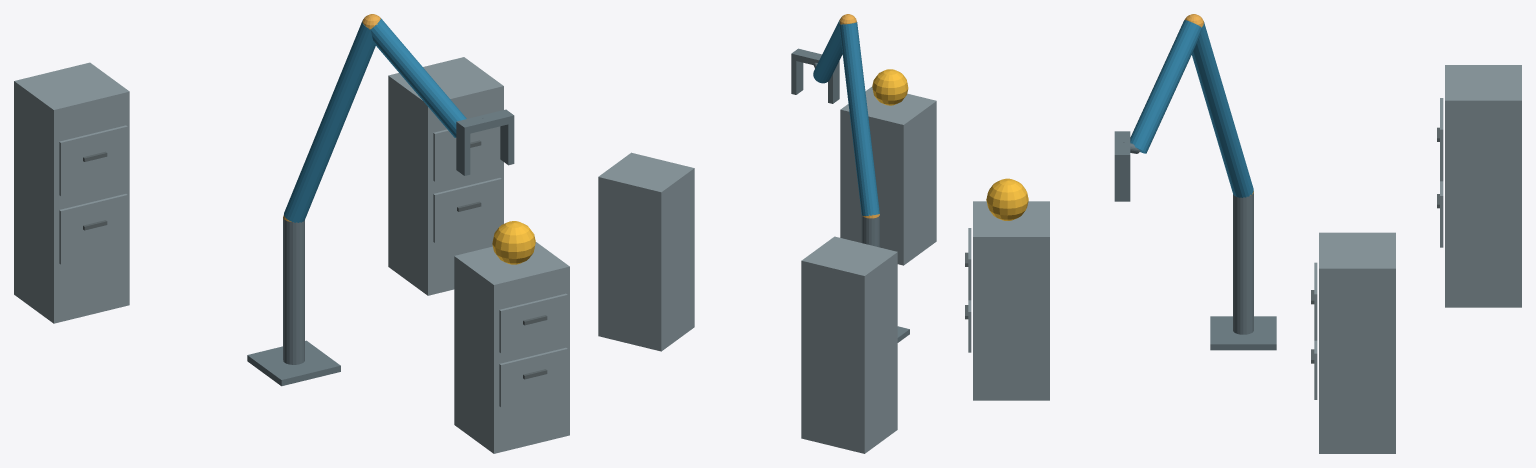
3 renders of one model, left to right at view 1: azimuth 30°, elevation 25°; view 2: azimuth 150°, elevation 25°; view 3: azimuth 270°, elevation 25°, orthographic. The views are drawn at different scales.
Visible parts, largest first — view 1: cabinet_3 body, cabinet_1 body, cabinet_2 body, moving link 1, cabinet_3 drawer front, cabinet_3 drawer front.001, cabinet_2 drawer front, fixed post, cabinet_1 drawer front.001, cabinet_1 drawer front, moving link 2, cabinet_2 drawer front.001 (+5 smaller); view 2: cabinet_3 body, cabinet_2 body, cabinet_1 body, moving link 1, ball ball_1, moving link 2, fixed post, gripper finger 1, gripper finger -1, gripper bridge; view 3: cabinet_3 body, cabinet_2 body, cabinet_1 body, moving link 1, moving link 2, fixed post, pedestal, ball ball_1, gripper finger 1.
Part boxes in pixels (x1,y1,x2,y2): cabinet_3 body: (14,62,129,323); cabinet_1 body: (454,242,569,453); cabinet_2 body: (388,57,503,295); moving link 1: (284,21,375,222); cabinet_3 drawer front: (59,194,127,264); cabinet_3 drawer front.001: (59,125,127,195); cabinet_2 drawer front: (433,178,501,242); fixed post: (283,217,304,364); cabinet_1 drawer front.001: (499,293,567,353); cabinet_1 drawer front: (499,347,567,407); moving link 2: (370,18,466,137); cabinet_2 drawer front.001: (433,126,501,181); cabinet_3 body: (801,236,897,453); cabinet_2 body: (598,152,694,351); cabinet_1 body: (840,86,936,265); moving link 1: (839,22,879,215); ball ball_1: (872,69,908,105); moving link 2: (813,17,842,83); fixed post: (861,214,879,247); gripper finger 1: (791,60,803,94); gripper finger -1: (828,65,839,103); gripper bridge: (791,48,839,67); cabinet_3 body: (1445,65,1521,307); cabinet_2 body: (1319,232,1395,453); cabinet_1 body: (973,201,1049,400); moving link 1: (1192,21,1253,197); moving link 2: (1130,20,1201,153); fixed post: (1233,193,1253,334); pedestal: (1210,316,1276,350); ball ball_1: (986,178,1028,220); gripper finger 1: (1114,162,1130,201).
Bounding box in the file's own units: 1.62 × 1.44 × 2.1.
